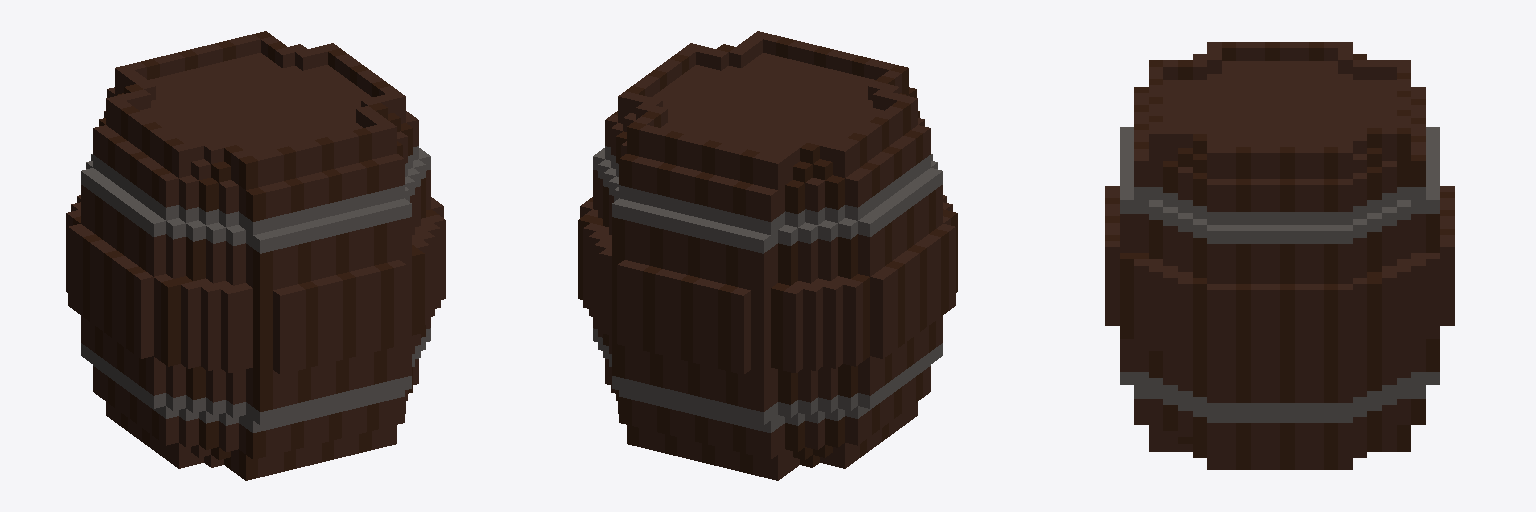
3 views of the same model, side by side, from view 1: azimuth 30°, elevation 25°; view 2: azimuth 150°, elevation 25°; view 3: azimuth 270°, elevation 25° (orthographic).
Parts seen in each view (by area): view 1: Bochka; view 2: Bochka; view 3: Bochka.
Part boxes in pixels (x1,y1,x2,y2): Bochka: (66, 31, 445, 480); Bochka: (578, 31, 957, 480); Bochka: (1105, 42, 1454, 469).
Bounding box in the file's own units: 2.4 × 2.4 × 2.4.
1 materials, 1 textured.